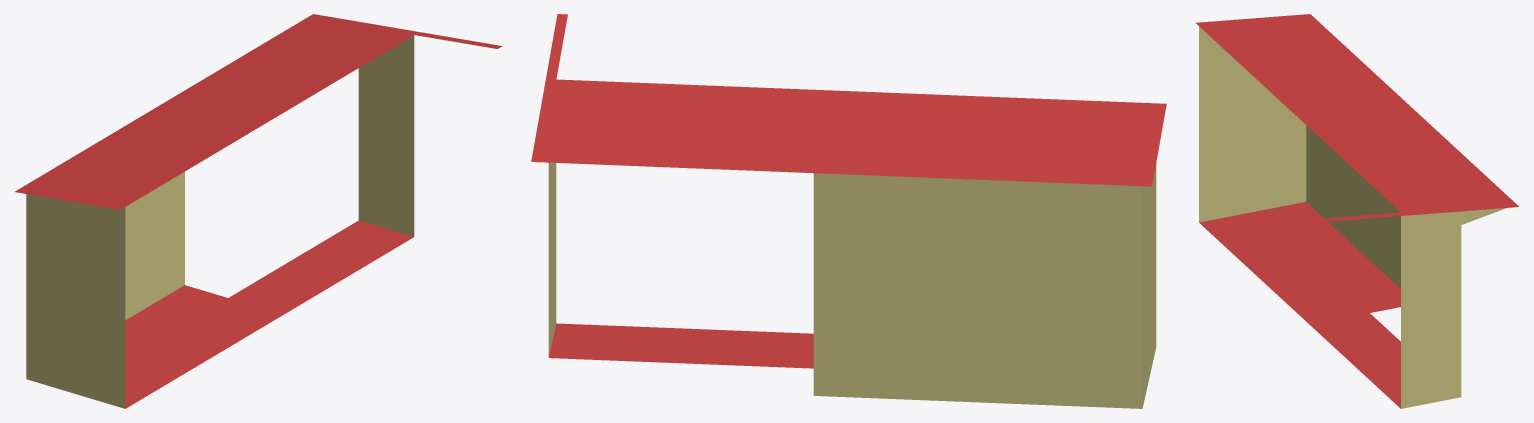
3 views of the same model, side by side, from view 1: azimuth 30°, elevation 25°; view 2: azimuth 150°, elevation 25°; view 3: azimuth 270°, elevation 25° (orthographic). The views are drawn at different scales.
Size of the model in its own units: 16.09 by 9.47 by 6.67.
